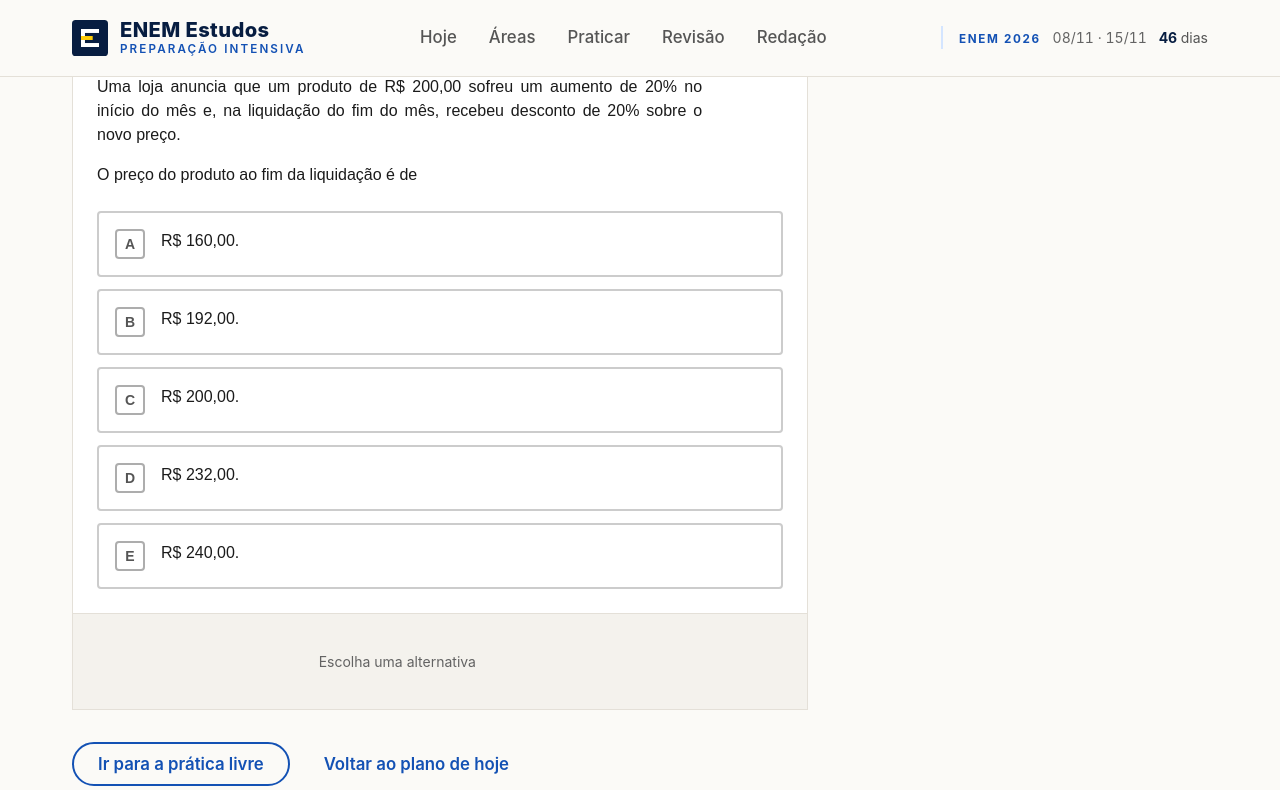
registro de progresso › classifica o tipo de erro ao errar
(page scrolled)
Click the button named "Alternativa C" at (200, 396), box [97,367,783,433]
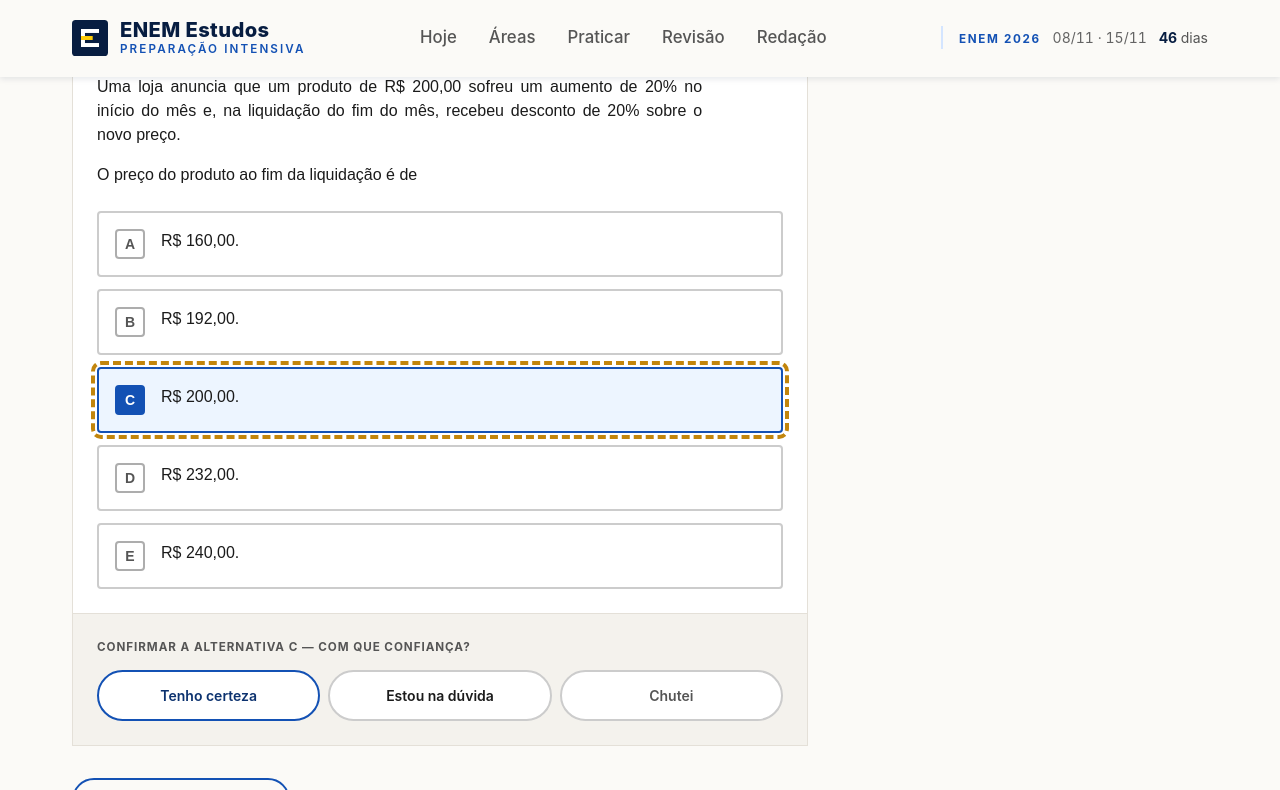
Click the button "Tenho certeza" at (209, 695), box [97,670,320,721]
(page scrolled)
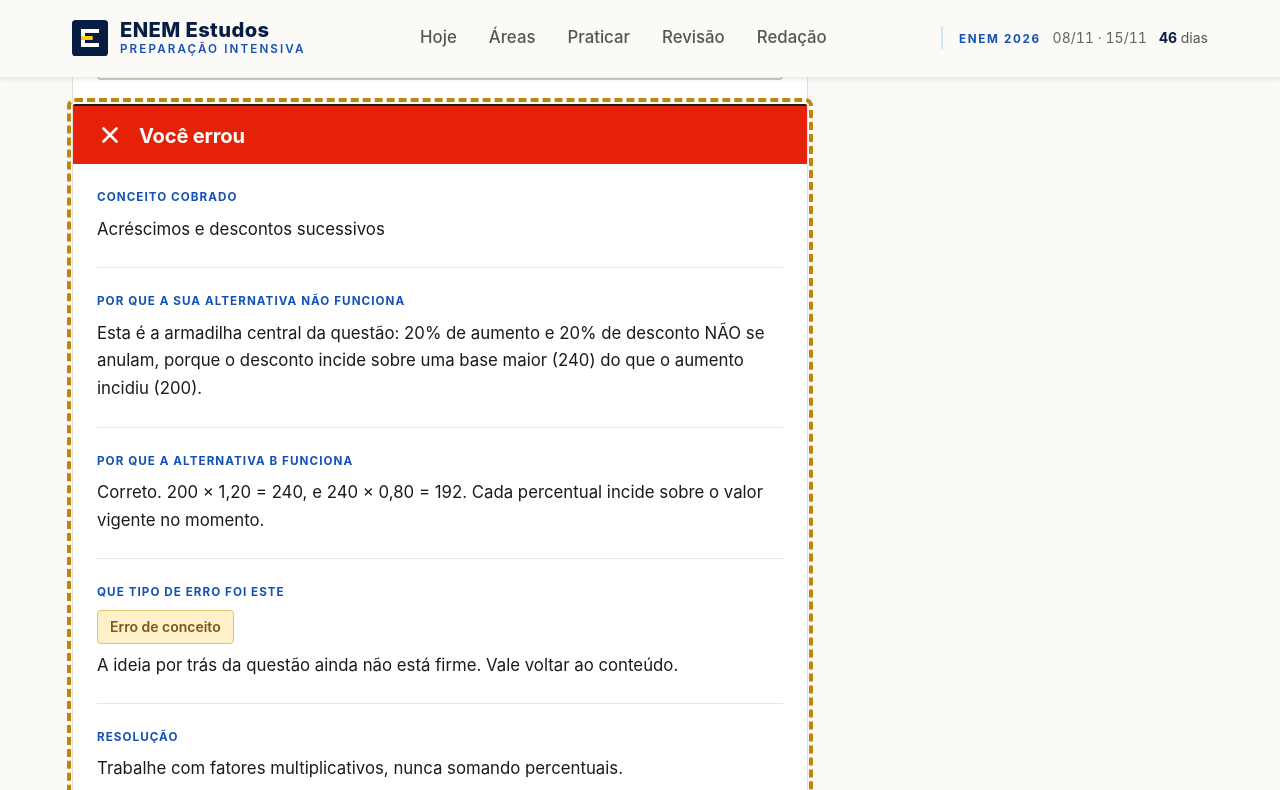
Now the heading "Você errou" is shown, box [139,124,245,147]
